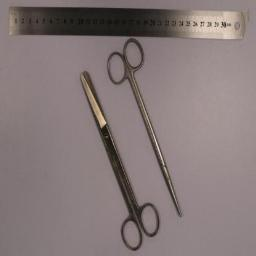Dressing Scissors: (80, 69, 160, 251)
